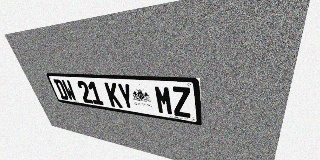1: (86, 81, 104, 105)
2: (76, 80, 94, 104)
D: (53, 79, 69, 100)
K: (104, 82, 123, 108)
M: (154, 85, 174, 115)
W: (61, 80, 78, 101)
Y: (116, 83, 135, 110)
Z: (171, 86, 192, 118)
